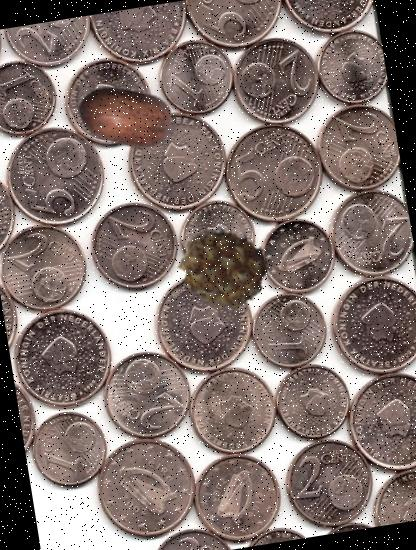Nut: (69, 61, 184, 175)
Pineapple: (172, 217, 274, 320)
